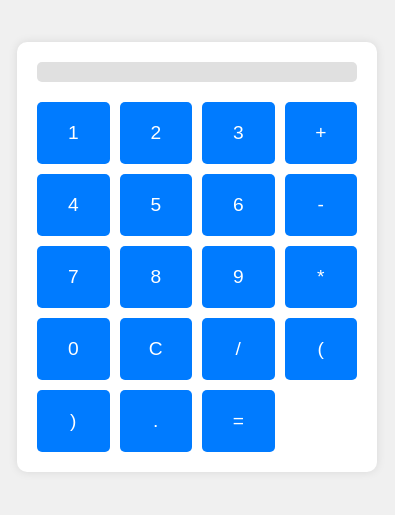
Test: division with negative numbers
The image size is (395, 515).
Click the button "-" at (321, 205), box [284, 174, 357, 236]
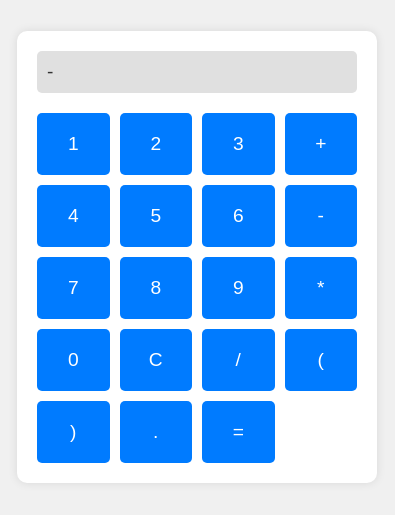
Click the button "4" at (73, 216), box [37, 185, 110, 247]
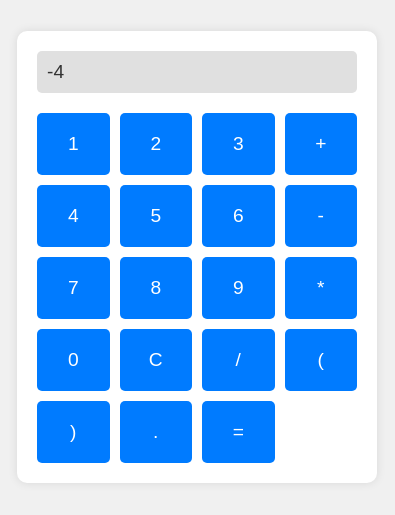
Click the button "/" at (238, 360), box [202, 329, 274, 391]
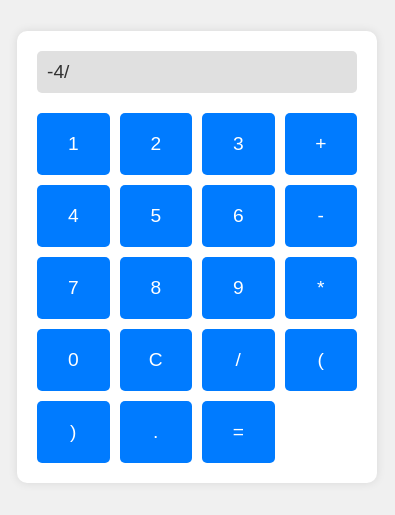
Click the button "2" at (156, 144), box [120, 113, 192, 175]
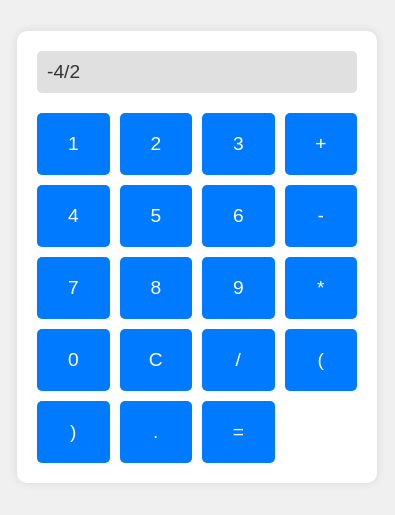
Click the button "=" at (238, 432), box [202, 401, 274, 463]
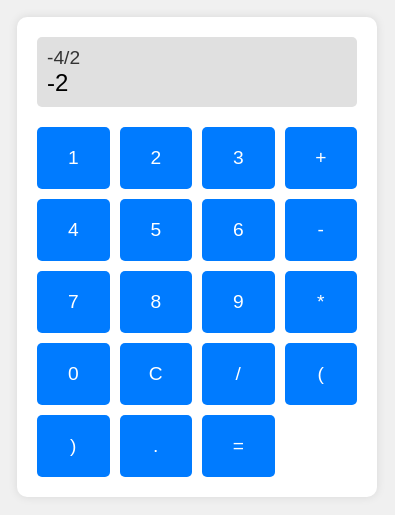
Now the text with test id "calculator-result" reads "-2", box [47, 69, 68, 96]
